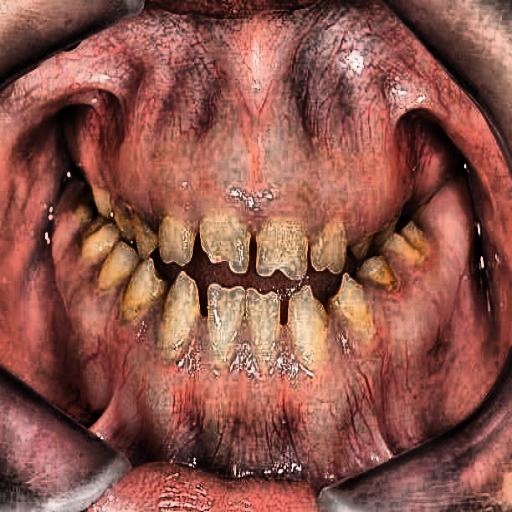Gingivitis: (66, 60, 406, 223)
